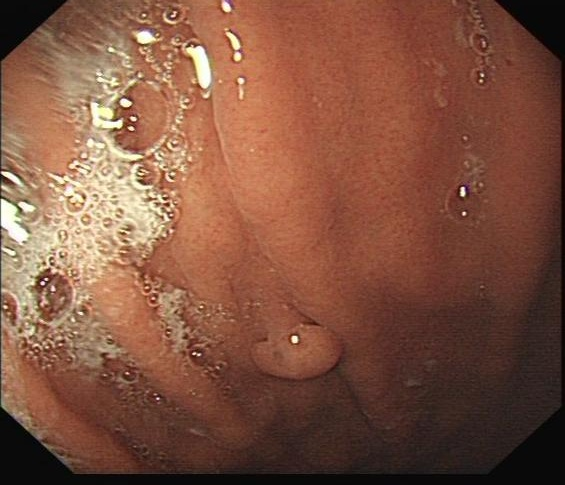Polyp: (231, 306, 372, 405)
